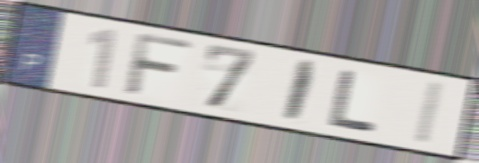1: (87, 26, 120, 91)
7: (202, 41, 260, 113)
F: (121, 30, 196, 100)
I: (280, 58, 320, 126), (413, 80, 447, 148)
L: (327, 67, 380, 134)
